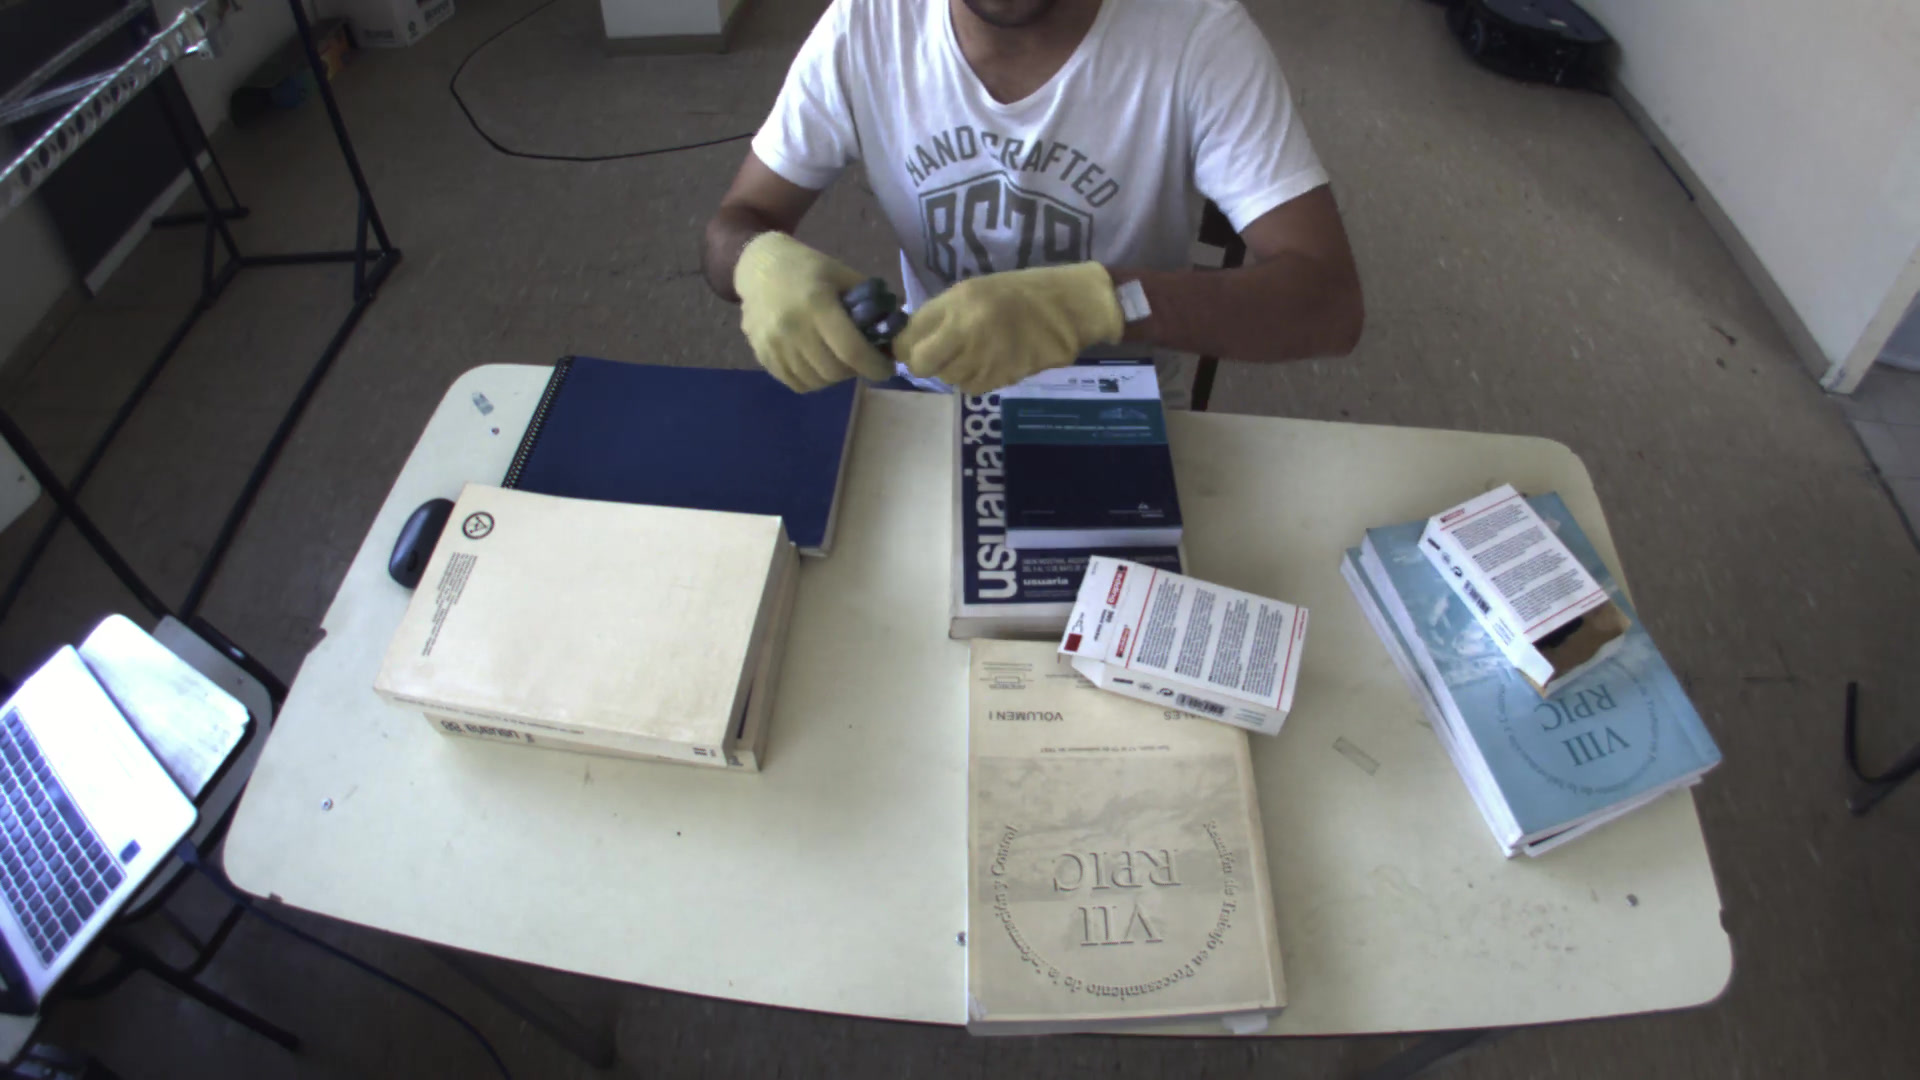hand: (891, 245, 1135, 400), (723, 225, 891, 400)
